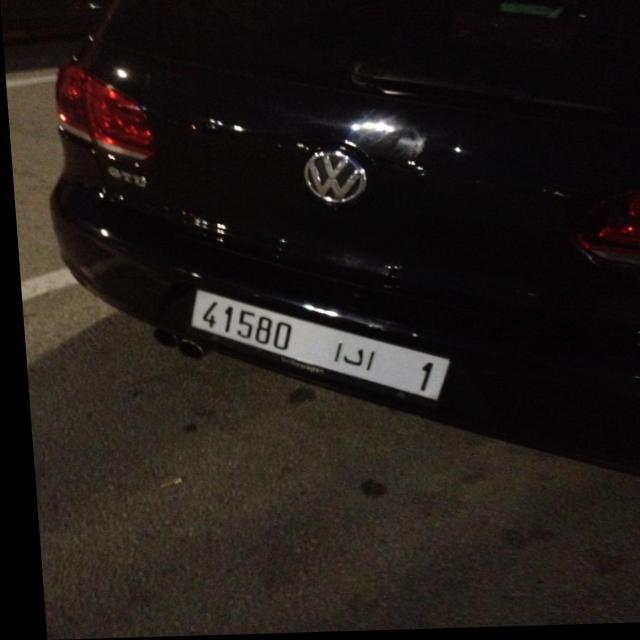License-Plate: (186, 291, 444, 401)
